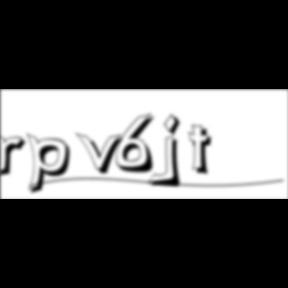6: (116, 112, 161, 176)
j: (160, 113, 188, 191)
p: (27, 132, 77, 198)
r: (1, 134, 34, 180)
t: (189, 124, 220, 179)
v: (76, 131, 130, 177)
